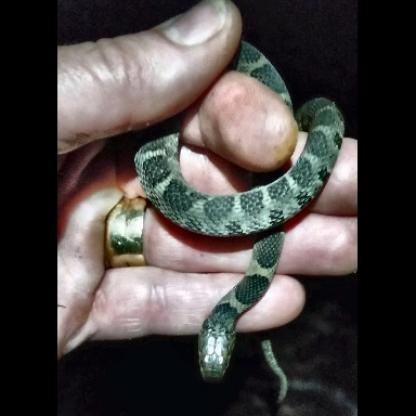Snake: (78, 3, 353, 385)
